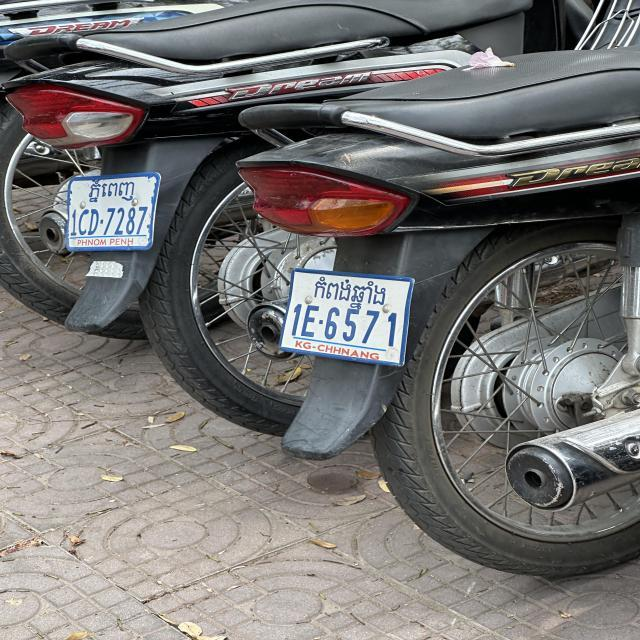Kampong_Chhnang: (312, 275, 386, 309)
